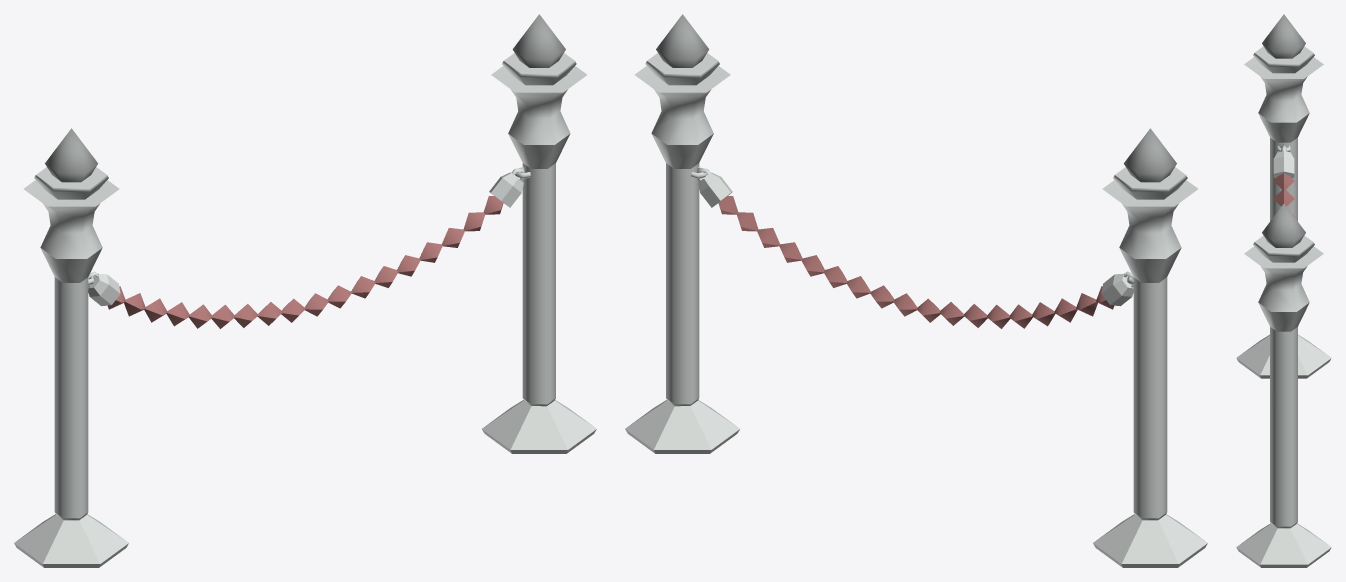
3 renders of one model, left to right at view 1: azimuth 30°, elevation 25°; view 2: azimuth 150°, elevation 25°; view 3: azimuth 270°, elevation 25°, orthographic. The views are drawn at different scales.
Parts seen in each view (by area): view 1: G:\FFXIV-MapTools\exports\u5f1\bg\ex4\04_uvs_u5\fld\u5f1\bgp (×5); view 2: G:\FFXIV-MapTools\exports\u5f1\bg\ex4\04_uvs_u5\fld\u5f1\bgp (×5); view 3: G:\FFXIV-MapTools\exports\u5f1\bg\ex4\04_uvs_u5\fld\u5f1\bgp (×5).
Part boxes in pixels (x1,y1,x2,y2): G:\FFXIV-MapTools\exports\u5f1\bg\ex4\04_uvs_u5\fld\u5f1\bgp (×5): (14, 14, 596, 567); G:\FFXIV-MapTools\exports\u5f1\bg\ex4\04_uvs_u5\fld\u5f1\bgp (×5): (625, 14, 1207, 567); G:\FFXIV-MapTools\exports\u5f1\bg\ex4\04_uvs_u5\fld\u5f1\bgp (×5): (1236, 14, 1331, 567).
Bounding box in the file's own units: 1.78 × 1.29 × 0.3198.
